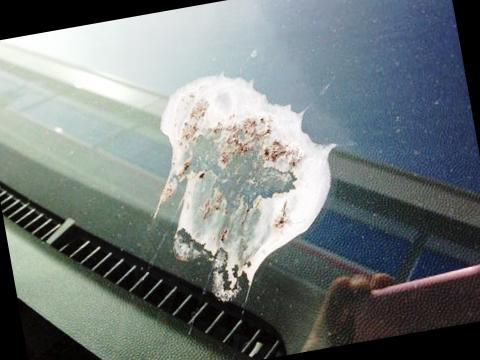Bird Poop: (155, 74, 335, 299)
